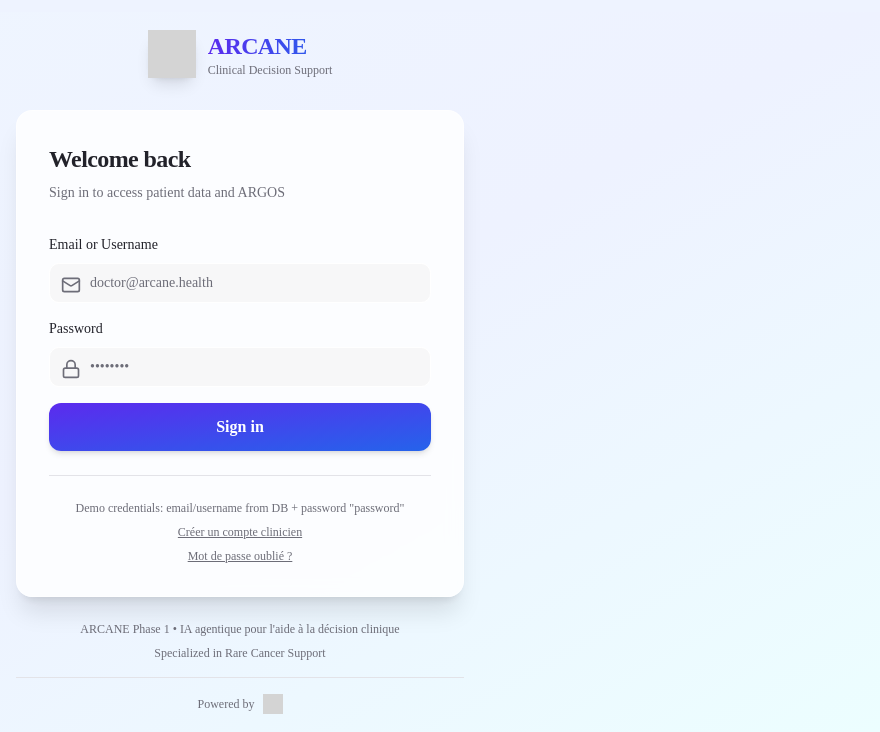
Test: Login page › refuse la soumission si les champs sont vides
The image size is (880, 732).
What coordinates should you click on to do the following:
click the button "Sign in"
I would click on:
 (240, 427)
Its box is [49,403,431,451].
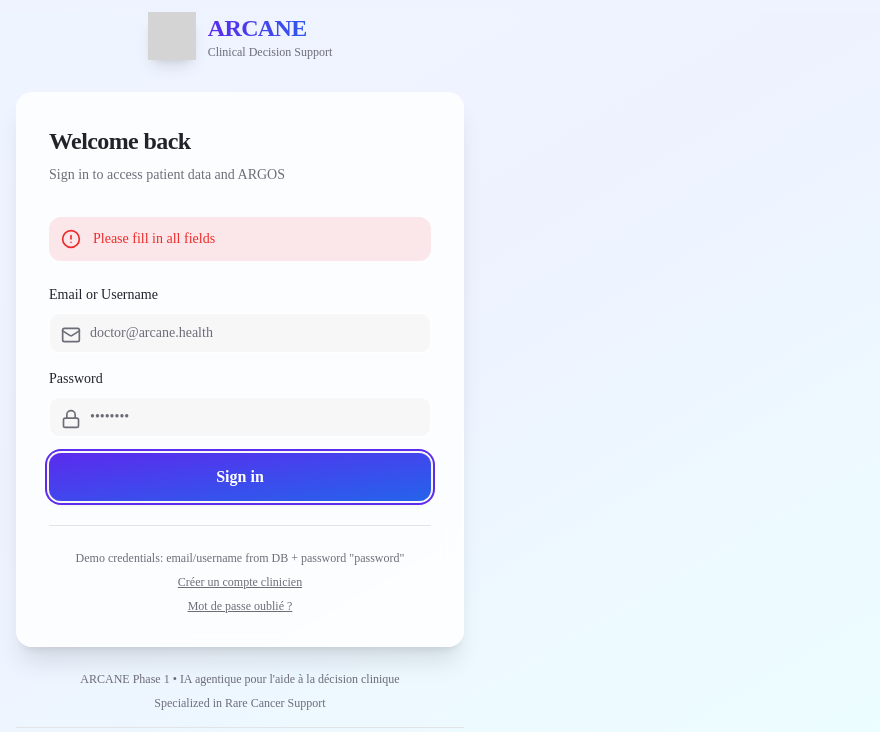
Expected: the text "Please fill in all fields" is shown, [93,229,215,249]
